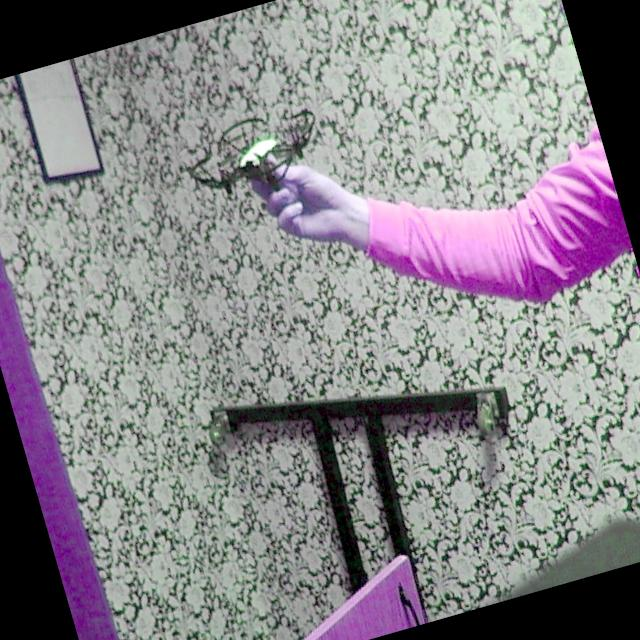drone: (168, 74, 340, 213)
